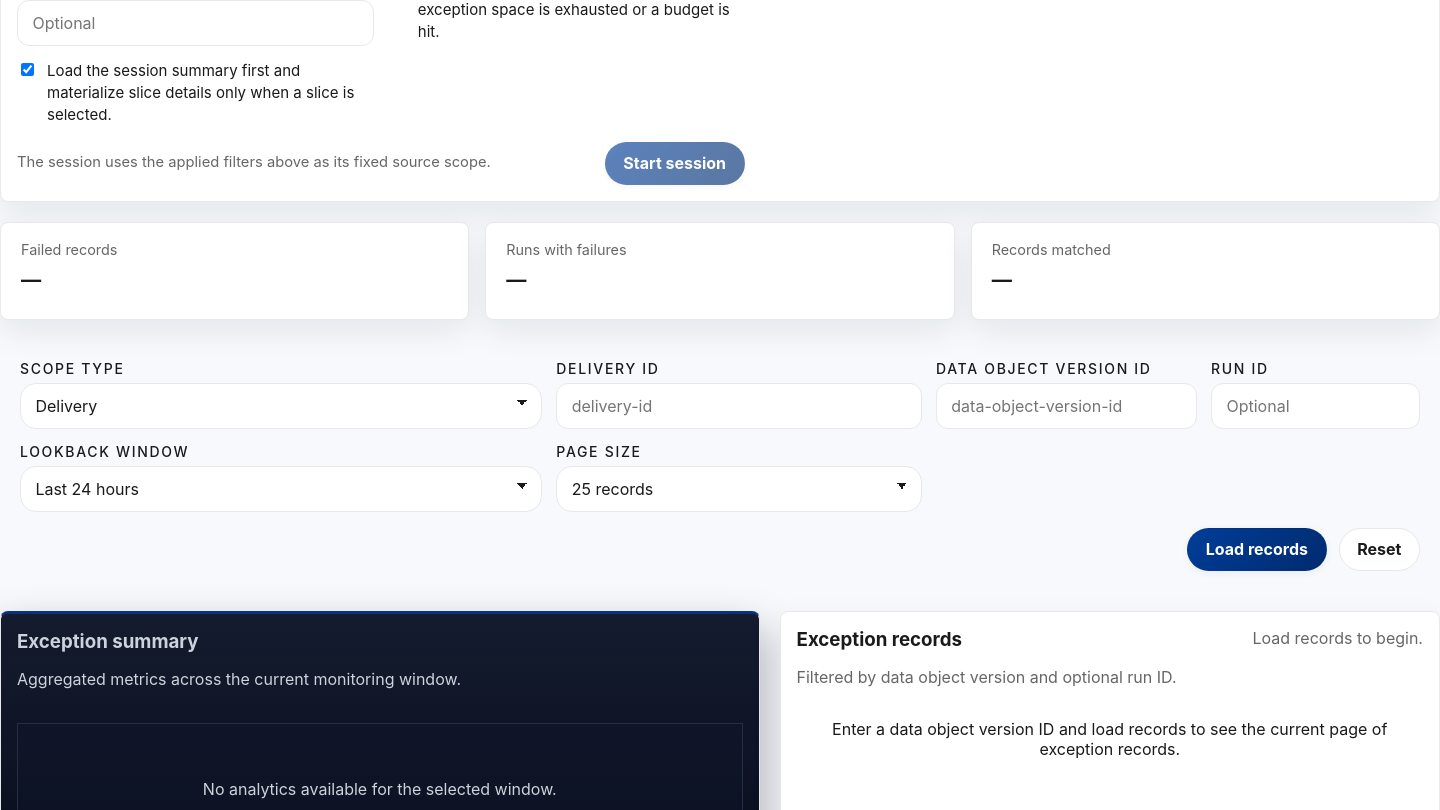
Test: ExceptionRecordHandling › loads analytics and exception facts for an active JIT reader
The width and height of the screenshot is (1440, 810).
(page scrolled)
Type "delivery-1" into the field with placeholder "delivery-id" at (739, 406), box [556,383,922,429]
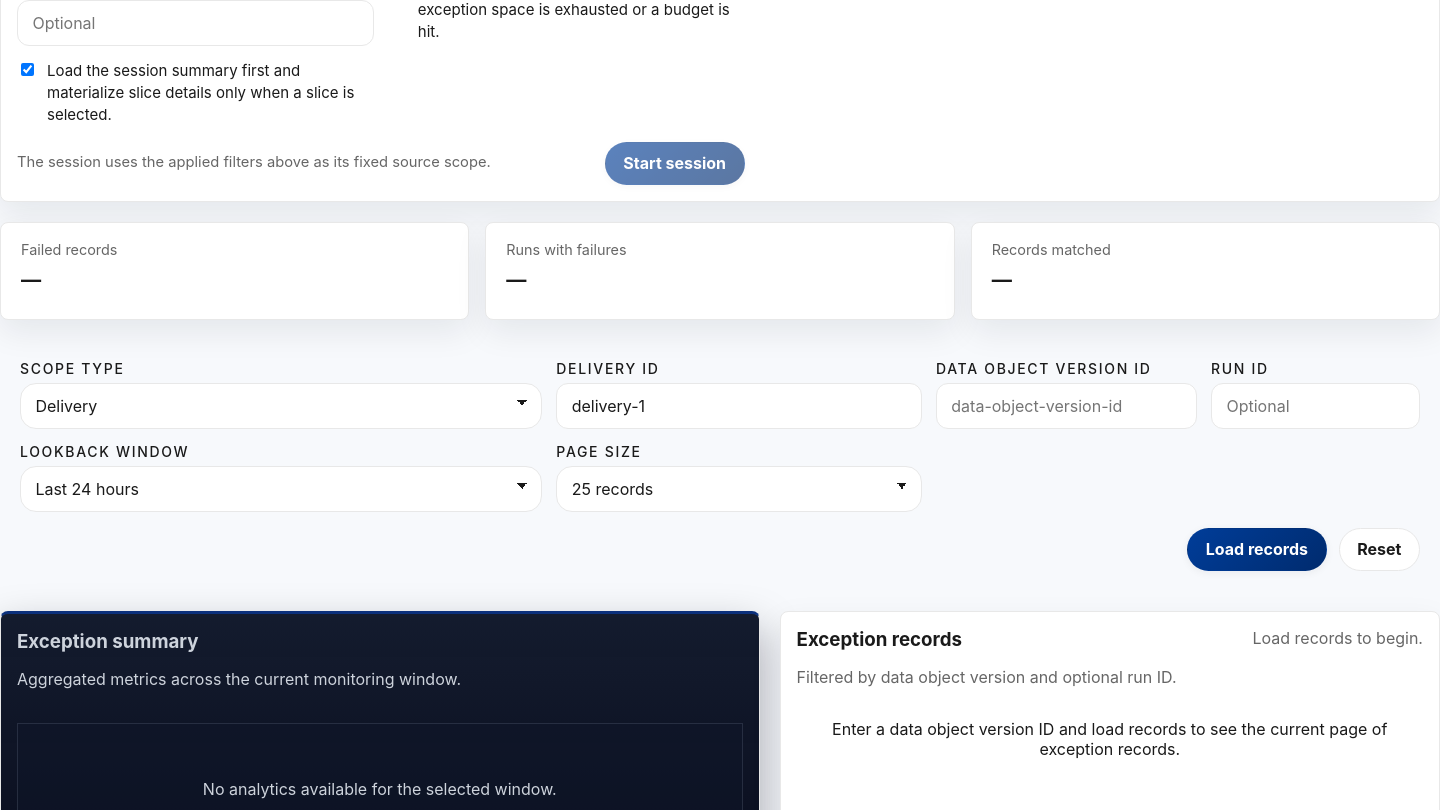
Type "dov-1" into the field with placeholder "data-object-version-id" at (1066, 406), box [936,383,1197,429]
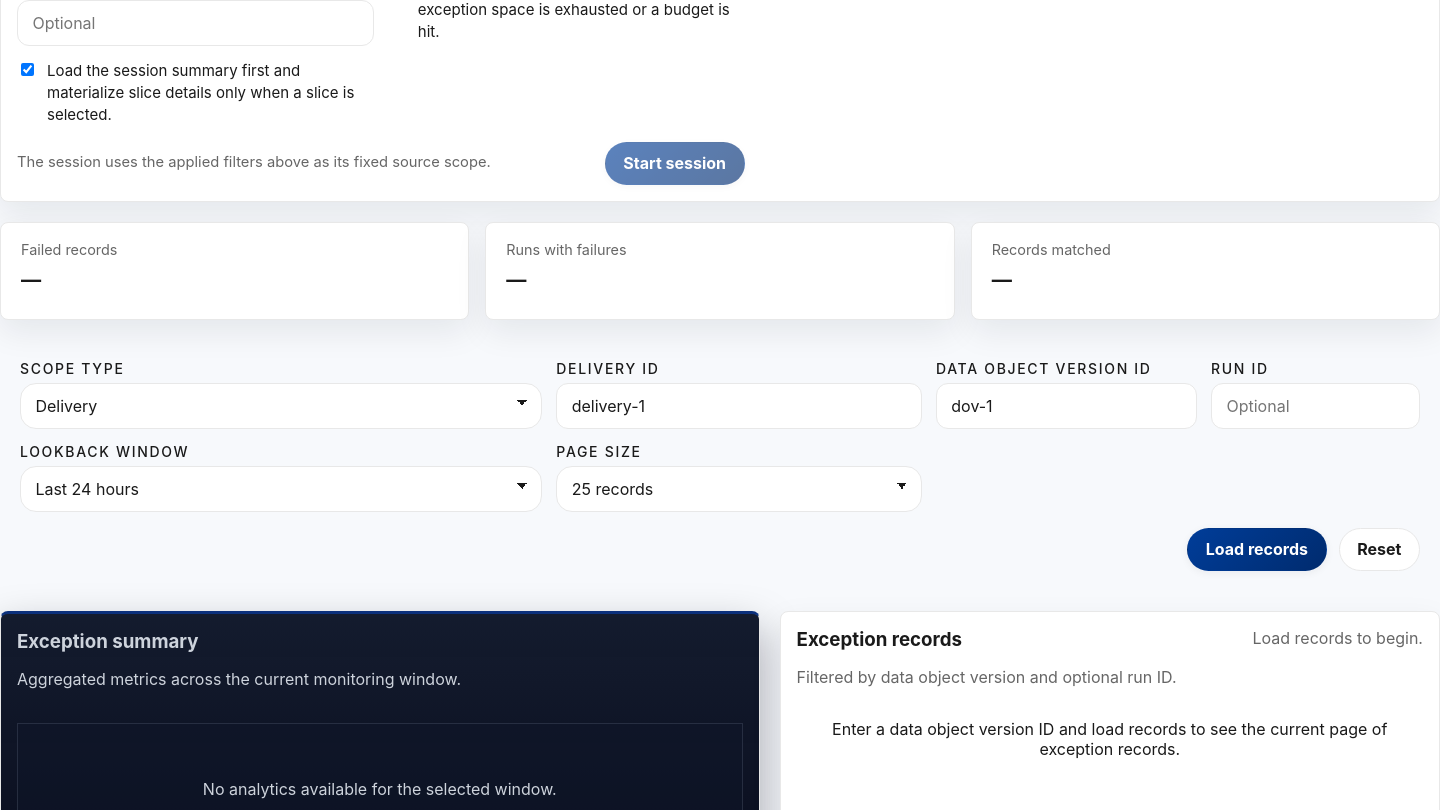
Click the button "Load records" at (1257, 549), box [1187,528,1327,570]
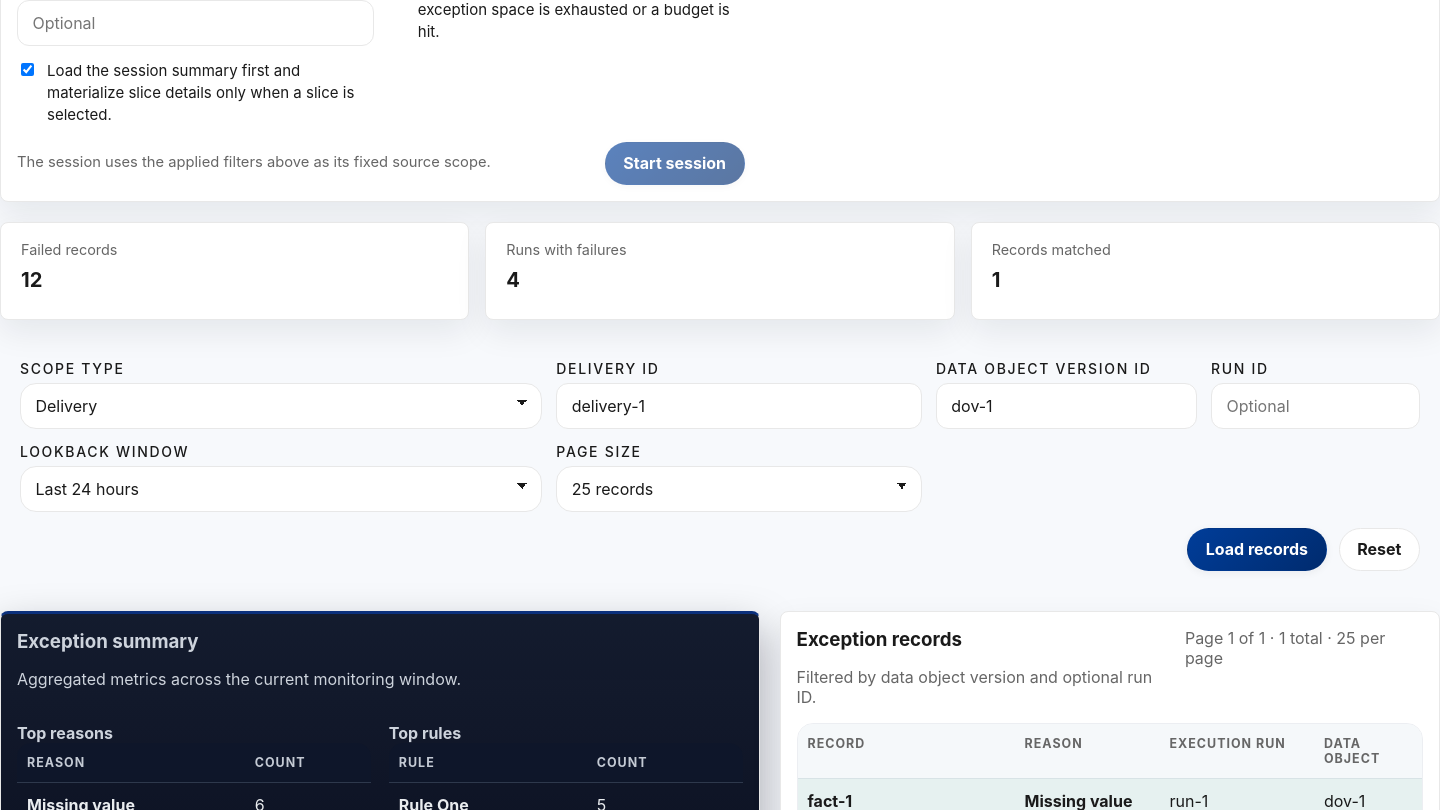
expect the text "12" is shown: met, box [21,267,42,292]
expect the text "fact-1" is shown: met, box [808,790,852,809]
